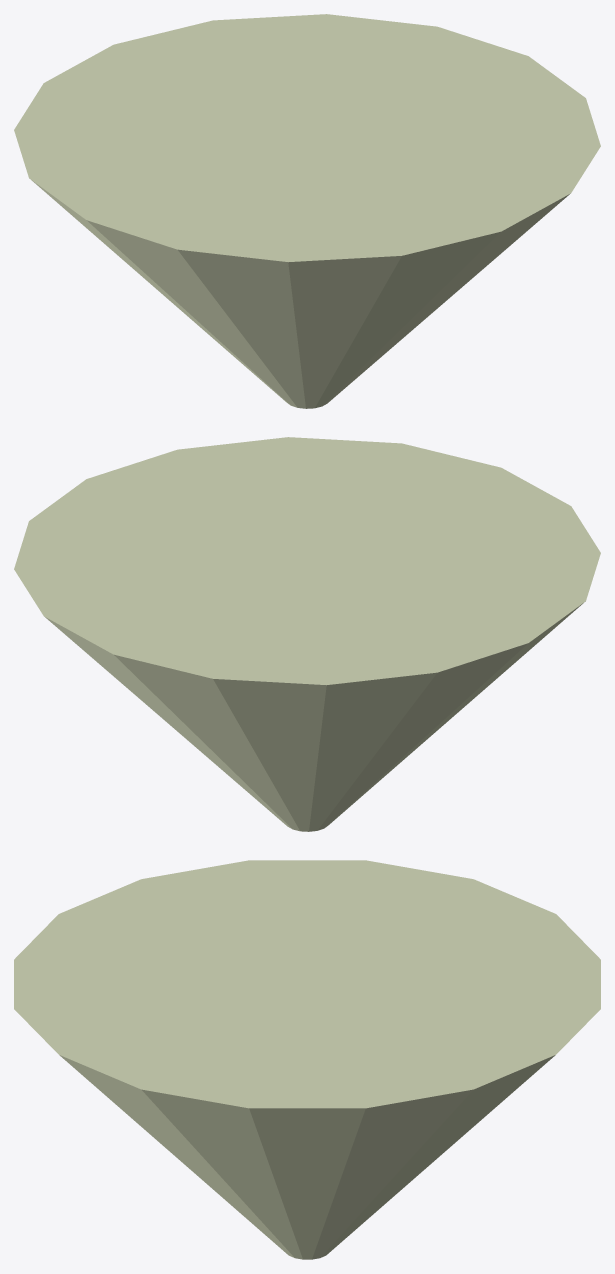
File: Andromeda_Engine_1_Collider.obj
3 renders of one model, top to bottom at view 1: azimuth 30°, elevation 25°; view 2: azimuth 150°, elevation 25°; view 3: azimuth 270°, elevation 25°, orthographic.
Parts seen in each view (by area): view 1: Andromeda_Engine_1_Collider; view 2: Andromeda_Engine_1_Collider; view 3: Andromeda_Engine_1_Collider.
Boxes of the visible parts, x1,y1,x2,y2 form: Andromeda_Engine_1_Collider: (14,14,600,408); Andromeda_Engine_1_Collider: (14,437,600,831); Andromeda_Engine_1_Collider: (14,860,600,1259).
Bounding box in the file's own units: 1.25 × 0.625 × 1.25.
